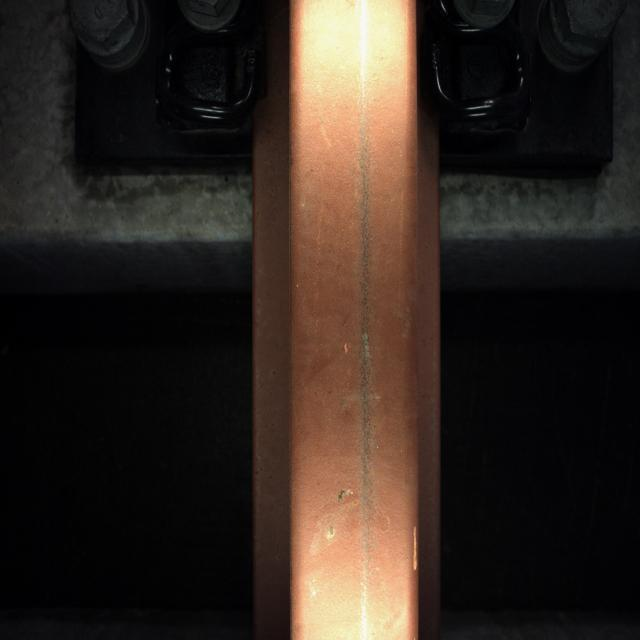crack: (302, 457, 388, 575)
